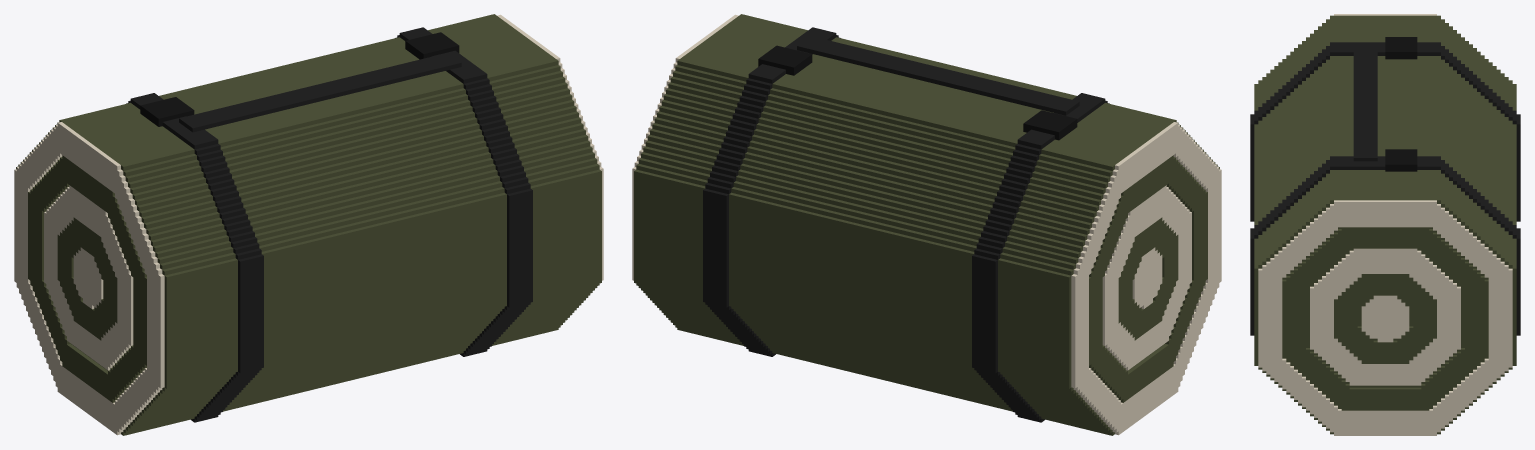
The model's file is sleeping_bag_fur_roll.glb.
3 renders of one model, left to right at view 1: azimuth 30°, elevation 25°; view 2: azimuth 150°, elevation 25°; view 3: azimuth 270°, elevation 25°, orthographic. The views are drawn at different scales.
Parts seen in each view (by area): view 1: sleeping_bag_fur_roll:compound; view 2: sleeping_bag_fur_roll:compound; view 3: sleeping_bag_fur_roll:compound.
Boxes of the visible parts, x1,y1,x2,y2 form: sleeping_bag_fur_roll:compound: [14, 14, 603, 435]; sleeping_bag_fur_roll:compound: [632, 14, 1221, 435]; sleeping_bag_fur_roll:compound: [1250, 14, 1520, 435].
Bounding box in the file's own units: 0.448 × 0.272 × 0.272.
